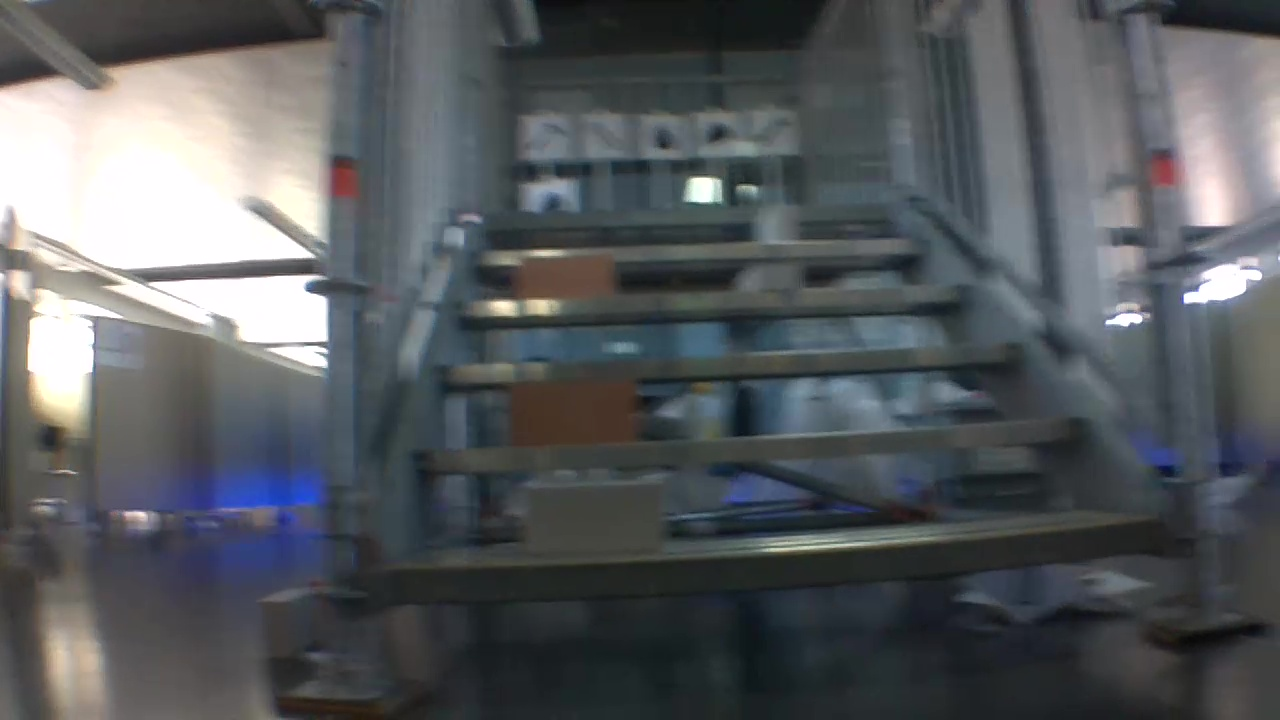brick: (528, 482, 659, 552), (511, 378, 636, 440), (256, 588, 312, 659), (519, 257, 612, 295), (755, 201, 797, 239), (738, 263, 798, 286)
edge: (396, 517, 1146, 600), (416, 417, 1087, 471), (435, 342, 1030, 383), (454, 283, 964, 314), (475, 236, 926, 264), (481, 206, 883, 226)
stairs: (276, 2, 1271, 720)
steps: (390, 198, 1154, 626)
